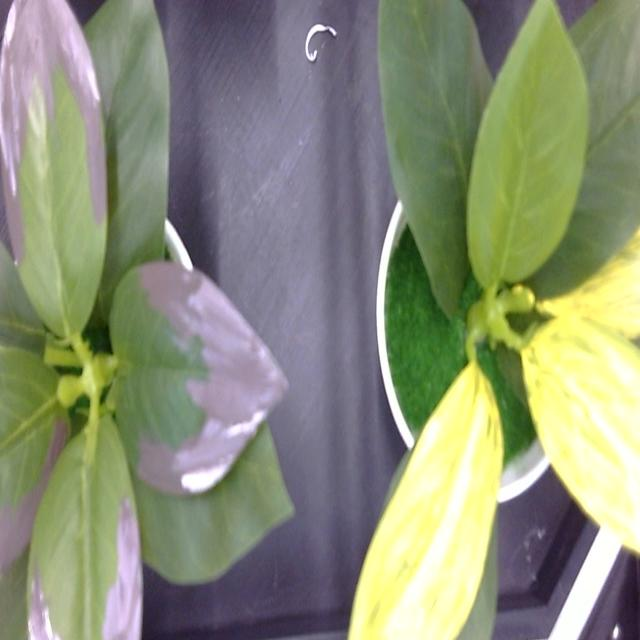Brown: (112, 261, 287, 496), (0, 0, 107, 338), (28, 413, 142, 639), (0, 345, 68, 606)
Green: (378, 0, 492, 316), (466, 0, 588, 289), (533, 0, 640, 297), (83, 0, 170, 323), (134, 422, 294, 584)
Yellow: (348, 362, 502, 639), (520, 228, 640, 554)
